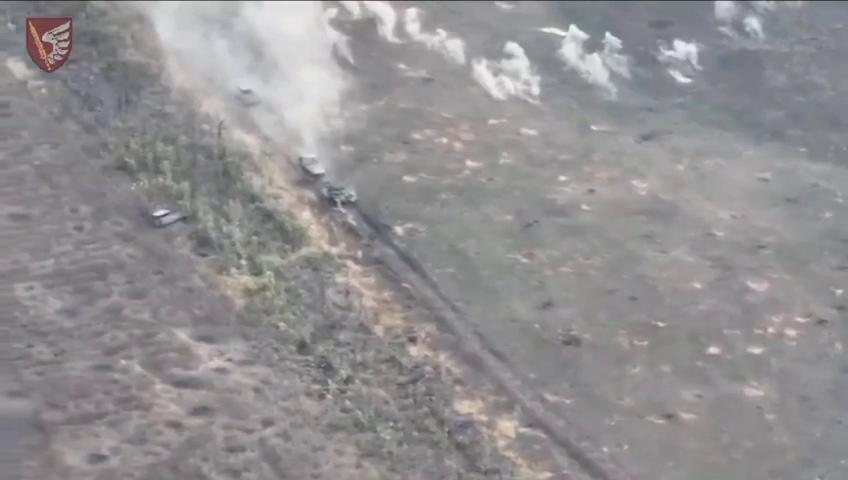tank: (321, 179, 360, 212), (296, 151, 329, 183), (232, 85, 263, 108)
